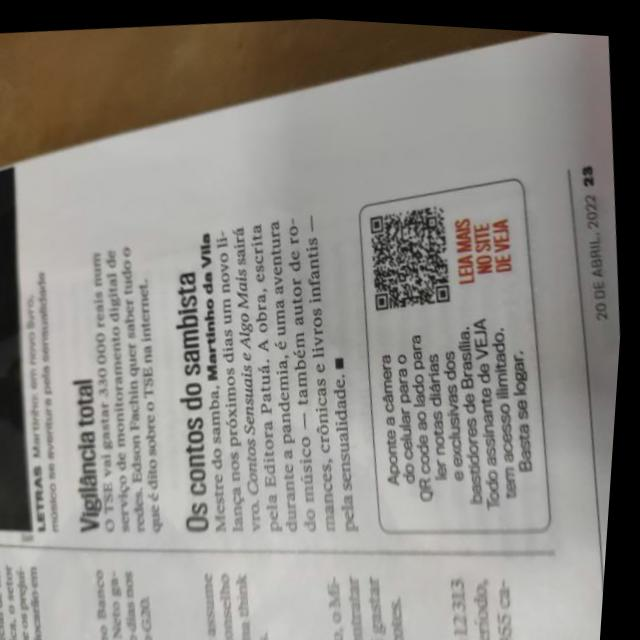qrcode: (368, 196, 460, 309)
